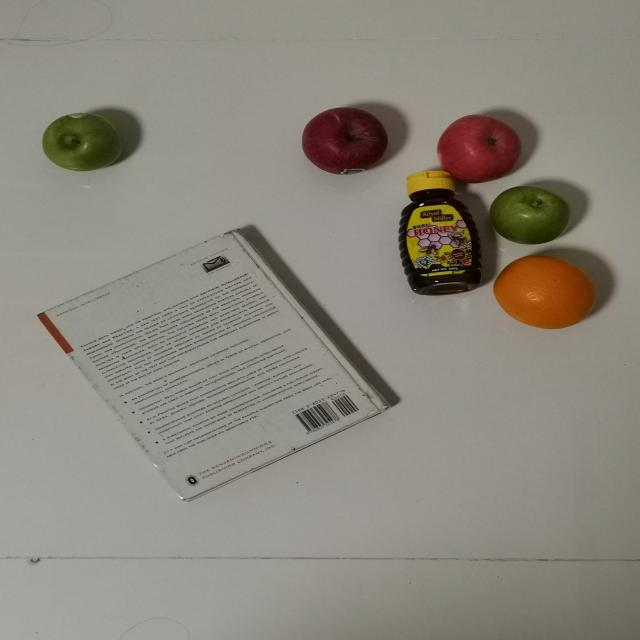Apple: (30, 103, 128, 178), (484, 174, 582, 248), (435, 105, 533, 179), (296, 103, 394, 177)
Book: (26, 227, 396, 502)
Orange: (494, 255, 610, 330)
